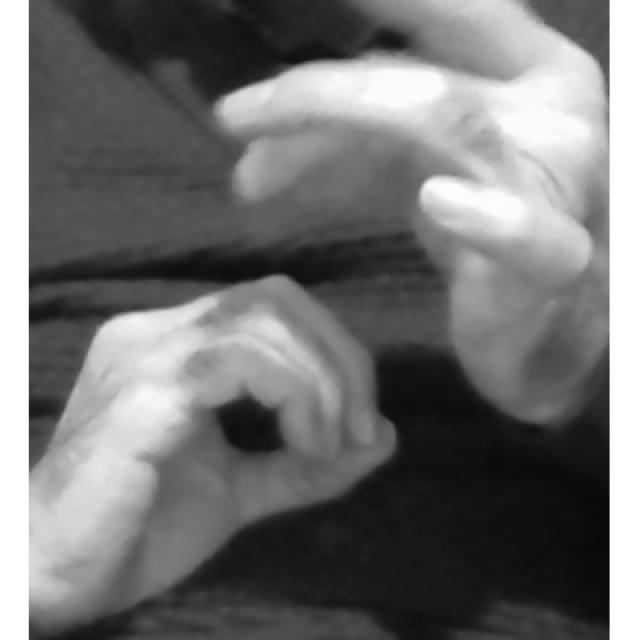O--: (33, 38, 610, 640)
